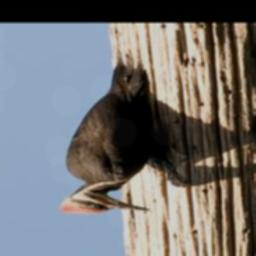Woodpecker: (57, 55, 188, 214)
